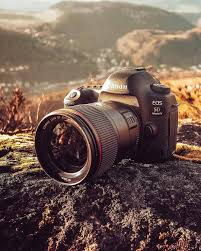camera: (36, 66, 177, 184)
